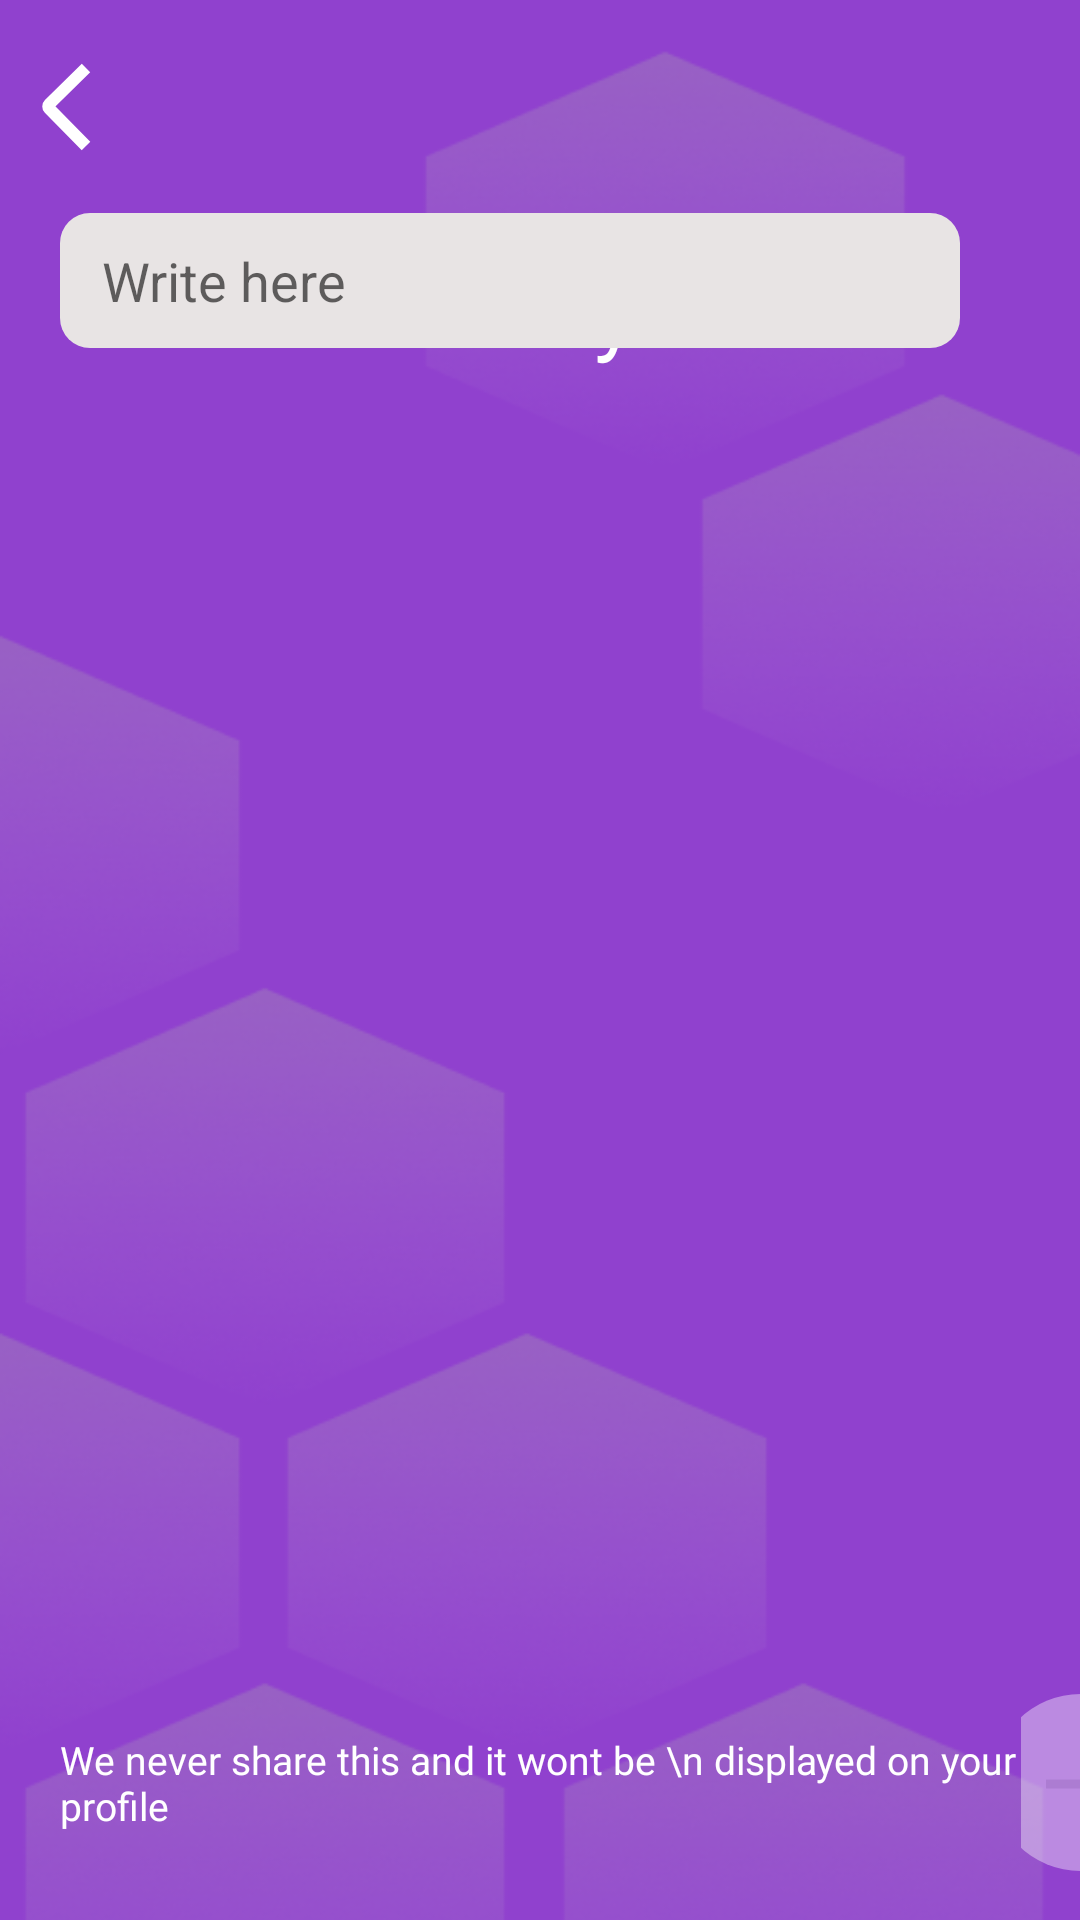

Where icons sit on this 1080px x 1920px app screen, as (x1, y1, x2, y2):
backbtn: (42, 64, 90, 150)
